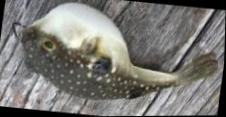fish: (19, 3, 217, 99)
